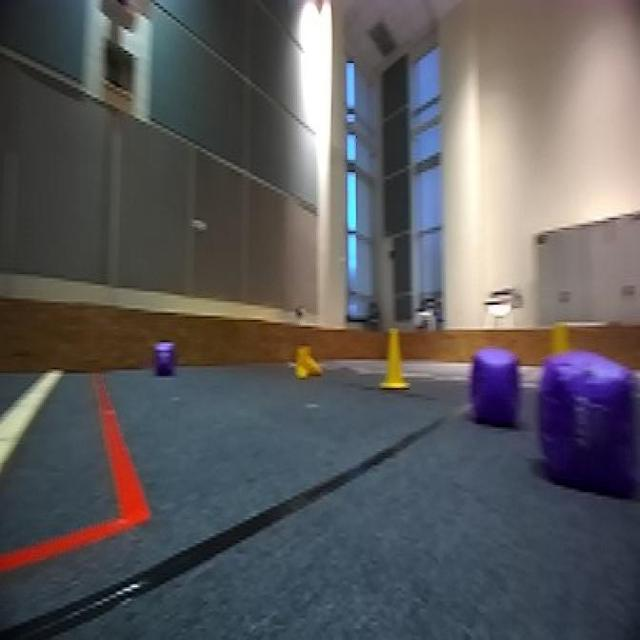frc_cone: (378, 325, 410, 395), (293, 344, 322, 378)
frc_cube: (534, 349, 640, 499), (466, 340, 526, 426), (151, 340, 177, 383)
